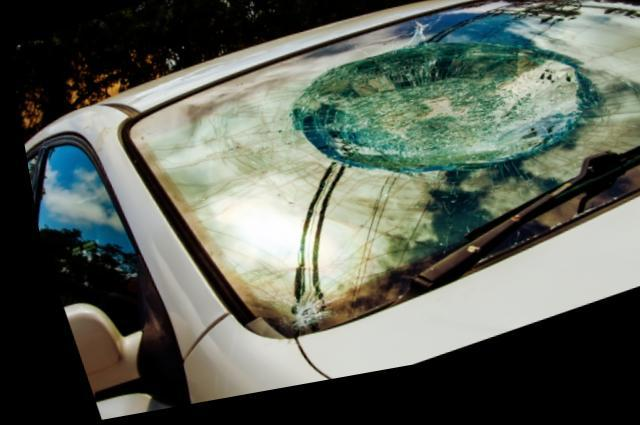glass shatter: (123, 10, 640, 345)
